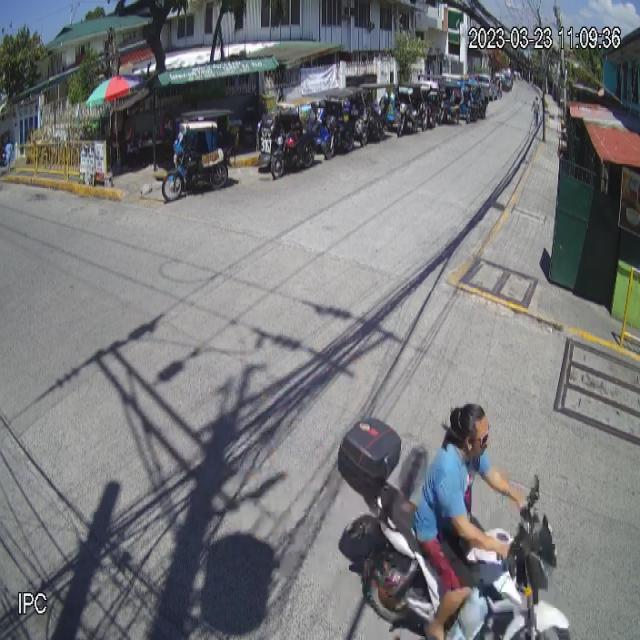Motorcycle: (338, 417, 570, 640)
